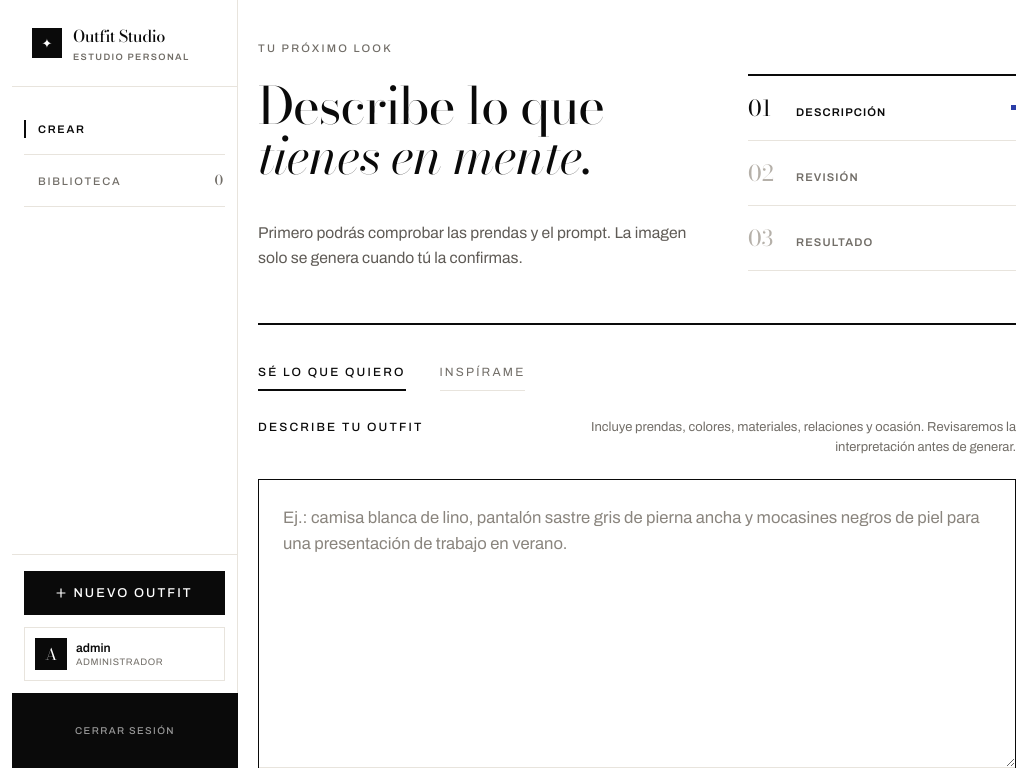
flujo principal › analiza, enseña el prompt y espera confirmación antes de generar imagen
Replace the text in the text box labelled "Describe tu outfit" with "camisa blanca de lino metida dentro del pantalón negro". click: (637, 623)
box: [259,480,1015,767]
(page scrolled)
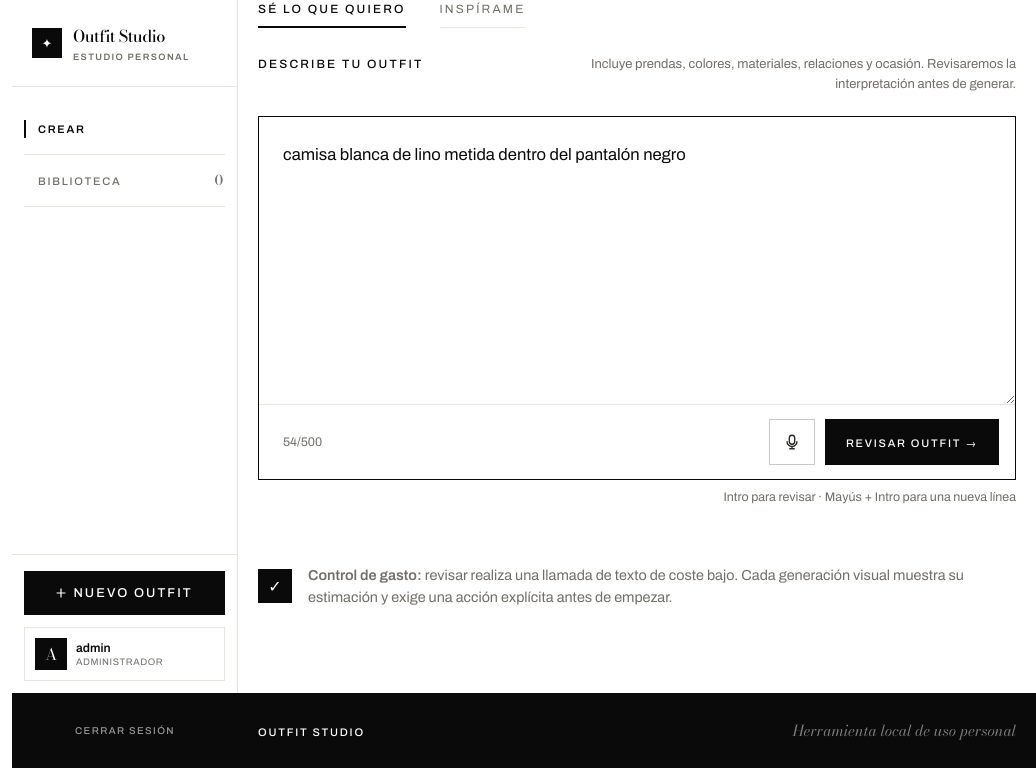
Click the button "Revisar outfit →". click: (912, 442)
box: [825,419,999,465]
(page scrolled)
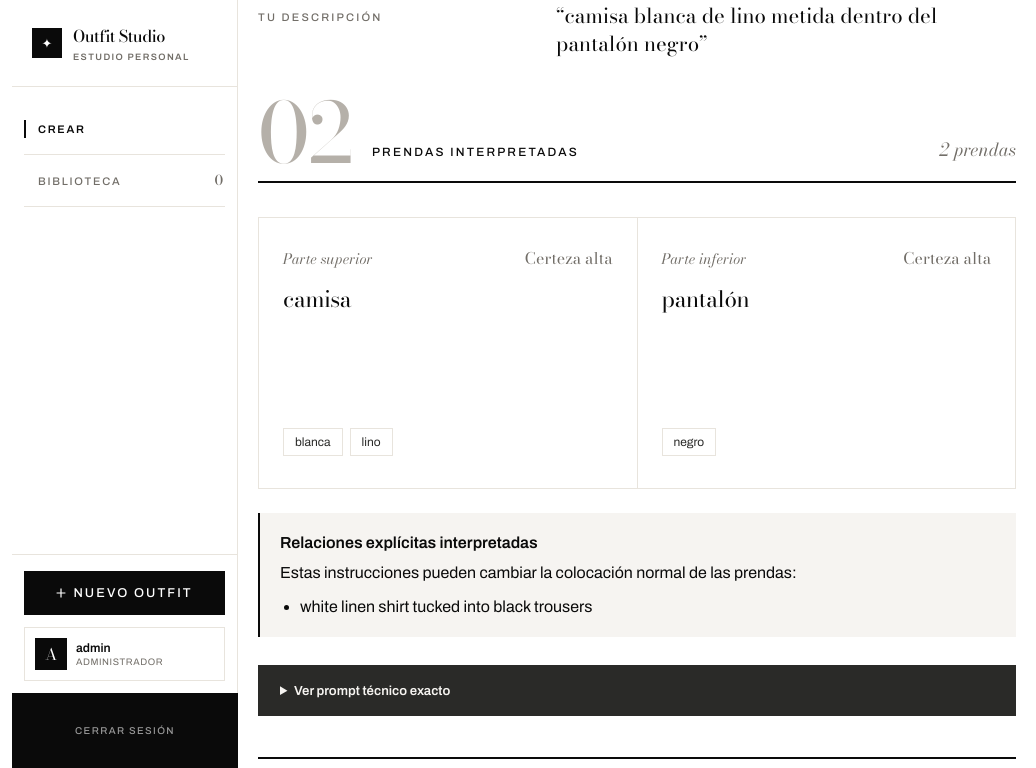
Click the heading "Ver prompt técnico exacto". click: (372, 690)
box: [294,683,450,698]
(page scrolled)
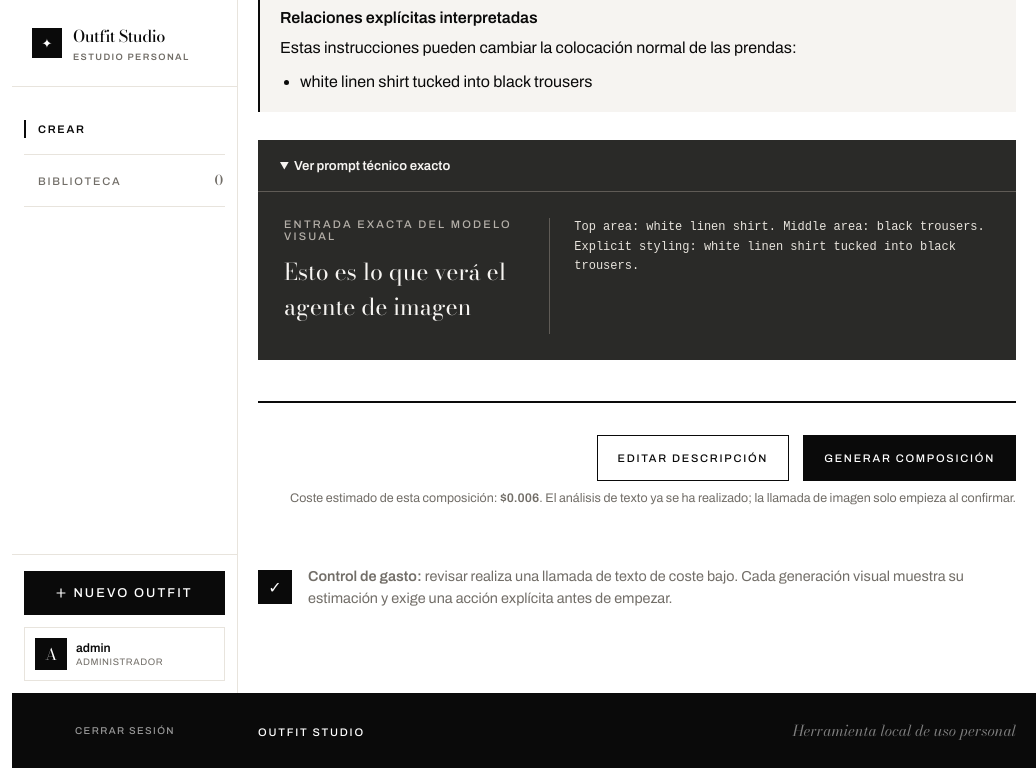
Now the text "Relaciones explícitas interpretadas" is shown, box [280,9,538,26]
Now the heading "Esto es lo que verá el agente de imagen" is shown, box [284,254,521,324]
Now the text "Top area: white linen shirt. Middle area: black trousers. Explicit styling: white linen shirt tucked into black trousers" is shown, box [574,220,992,273]
Click the button "Generar composición". click: (910, 458)
box: [803,435,1016,481]
(page scrolled)
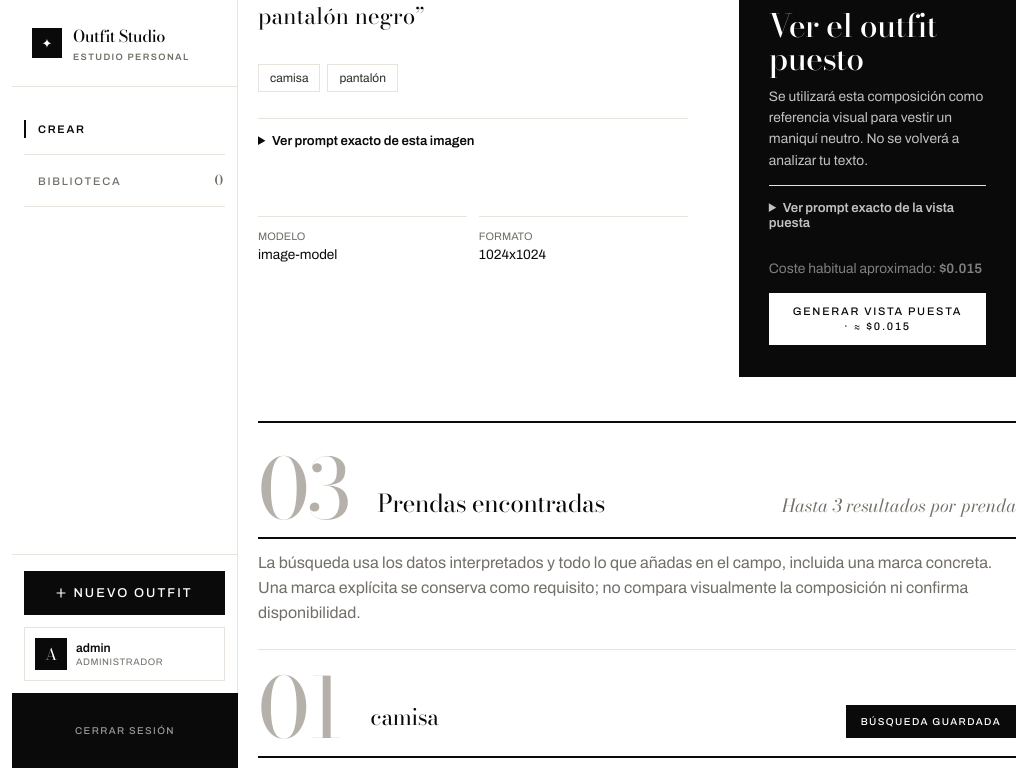
Now the button "Generar vista puesta · ≈ $0.015" is shown, box [769,293,986,345]
